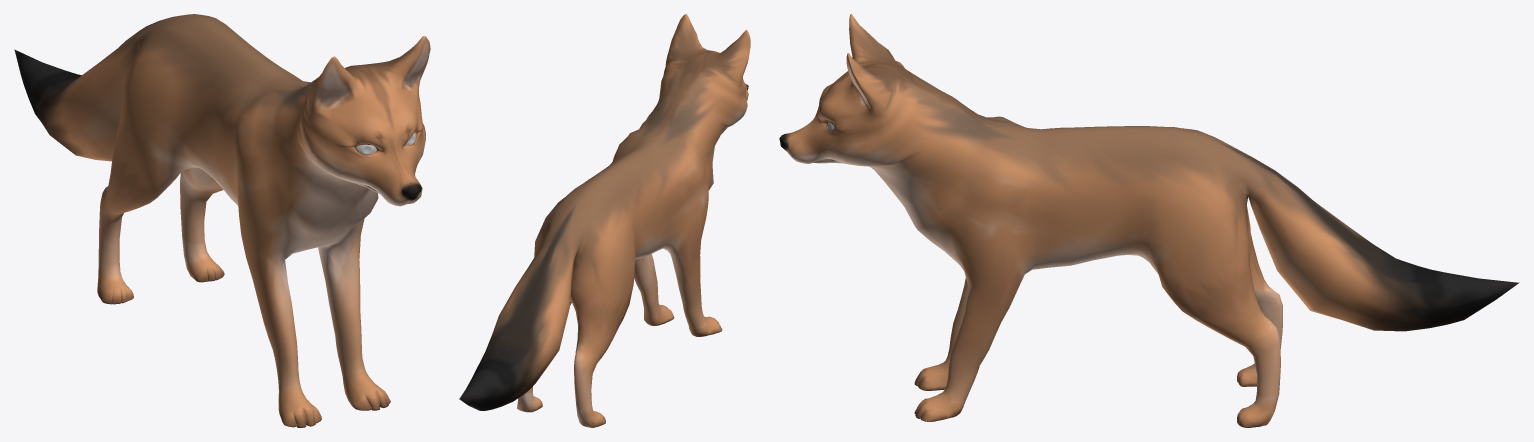
File: zorrom.obj
The picture shows the model from 3 angles, left to right: view 1: azimuth 30°, elevation 25°; view 2: azimuth 150°, elevation 25°; view 3: azimuth 270°, elevation 25°; orthographic projection. The views are drawn at different scales.
Parts seen in each view (by area): view 1: Fox_Body; view 2: Fox_Body; view 3: Fox_Body.
Boxes of the visible parts, x1,y1,x2,y2 form: Fox_Body: [14, 14, 430, 427]; Fox_Body: [459, 14, 750, 427]; Fox_Body: [779, 14, 1519, 427].
Bounding box in the file's own units: 1.96 × 6.08 × 11.12.
3 materials, 2 textured.
